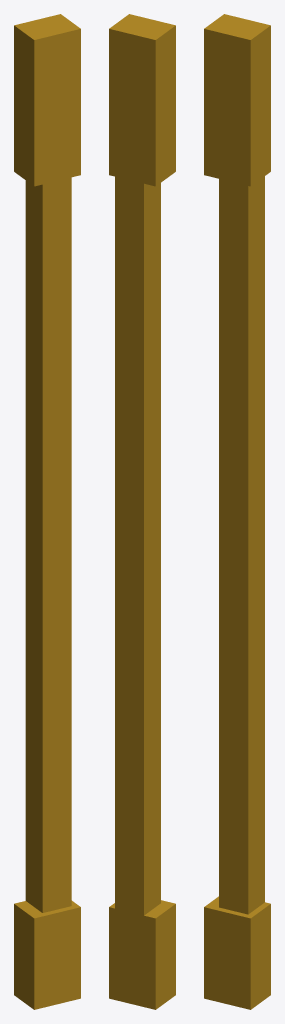
File: RightBarrier.fbx
The picture shows the model from 3 angles, left to right: view 1: azimuth 30°, elevation 25°; view 2: azimuth 150°, elevation 25°; view 3: azimuth 330°, elevation 25°; orthographic projection.
Visible parts, largest first — view 1: RightBarrier; view 2: RightBarrier; view 3: RightBarrier.
Part boxes in pixels (x1,y1,x2,y2): RightBarrier: (14, 14, 80, 1009); RightBarrier: (109, 14, 175, 1009); RightBarrier: (204, 14, 270, 1009).
Bounding box in the file's own units: 8 × 159 × 6.
1 material, 1 textured.
